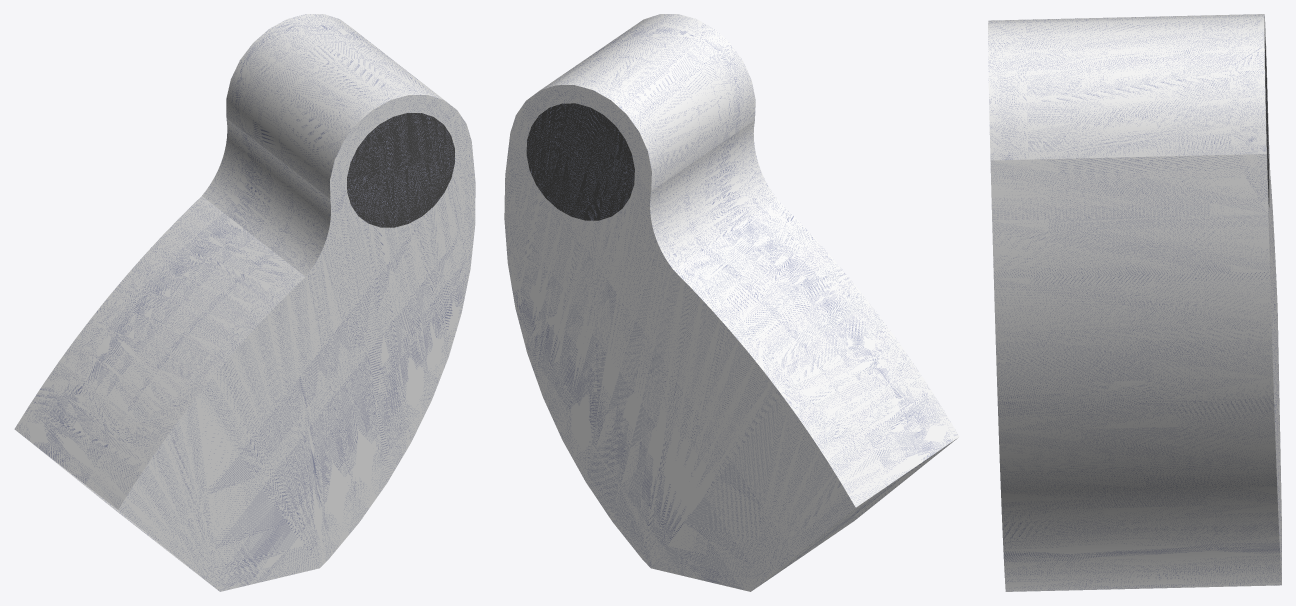
Rendered from RF-down-leg-aibo-ers7.dae.
The picture shows the model from 3 angles, left to right: view 1: azimuth 30°, elevation 25°; view 2: azimuth 150°, elevation 25°; view 3: azimuth 270°, elevation 25°; orthographic projection. The views are drawn at different scales.
Parts seen in each view (by area): view 1: Component_4 (×2); view 2: Component_4 (×2); view 3: Component_4.
Boxes of the visible parts, x1,y1,x2,y2 form: Component_4 (×2): [14, 14, 475, 591]; Component_4 (×2): [504, 14, 959, 591]; Component_4: [988, 14, 1281, 591].
Bounding box in the file's own units: 20.56 × 11.09 × 25.67.
